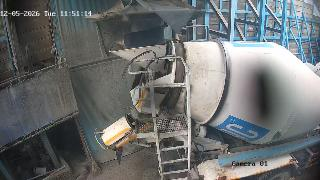swing_chute: (110, 41, 320, 180)
